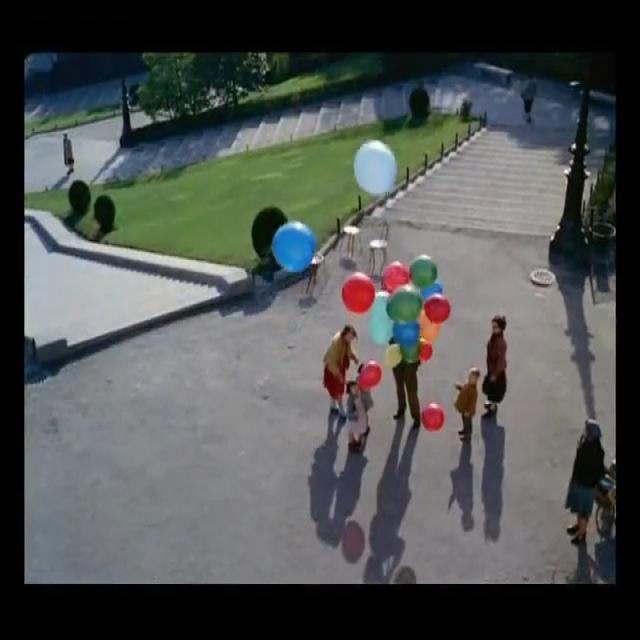balloon: (353, 139, 397, 196), (271, 220, 316, 273), (343, 272, 375, 315), (387, 286, 422, 319), (410, 255, 437, 286), (382, 260, 408, 292), (421, 401, 444, 431), (372, 315, 394, 346), (418, 310, 440, 340), (424, 296, 450, 321), (392, 323, 420, 343), (362, 360, 380, 390), (384, 343, 404, 368), (401, 339, 420, 362), (420, 281, 444, 299), (417, 342, 432, 363)
